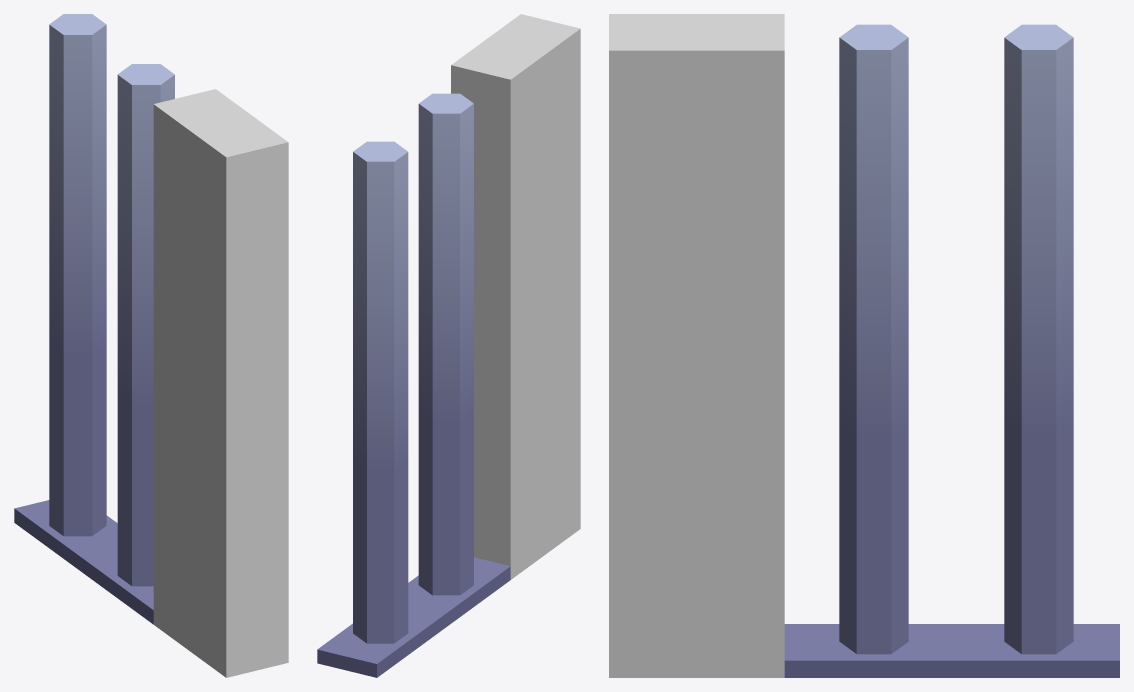
File: wall_cell_01.fbx
3 renders of one model, left to right at view 1: azimuth 30°, elevation 25°; view 2: azimuth 150°, elevation 25°; view 3: azimuth 270°, elevation 25°, orthographic. The views are drawn at different scales.
Parts seen in each view (by area): view 1: wall_cell_01; view 2: wall_cell_01; view 3: wall_cell_01.
Part boxes in pixels (box(x1,y1,x2,y2)): wall_cell_01: box(14, 14, 288, 677); wall_cell_01: box(317, 14, 580, 677); wall_cell_01: box(609, 14, 1119, 677).
Size of the model in its own units: 0.25 by 2 by 1.48.
